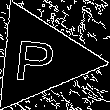P_N: (18, 31, 63, 84)
